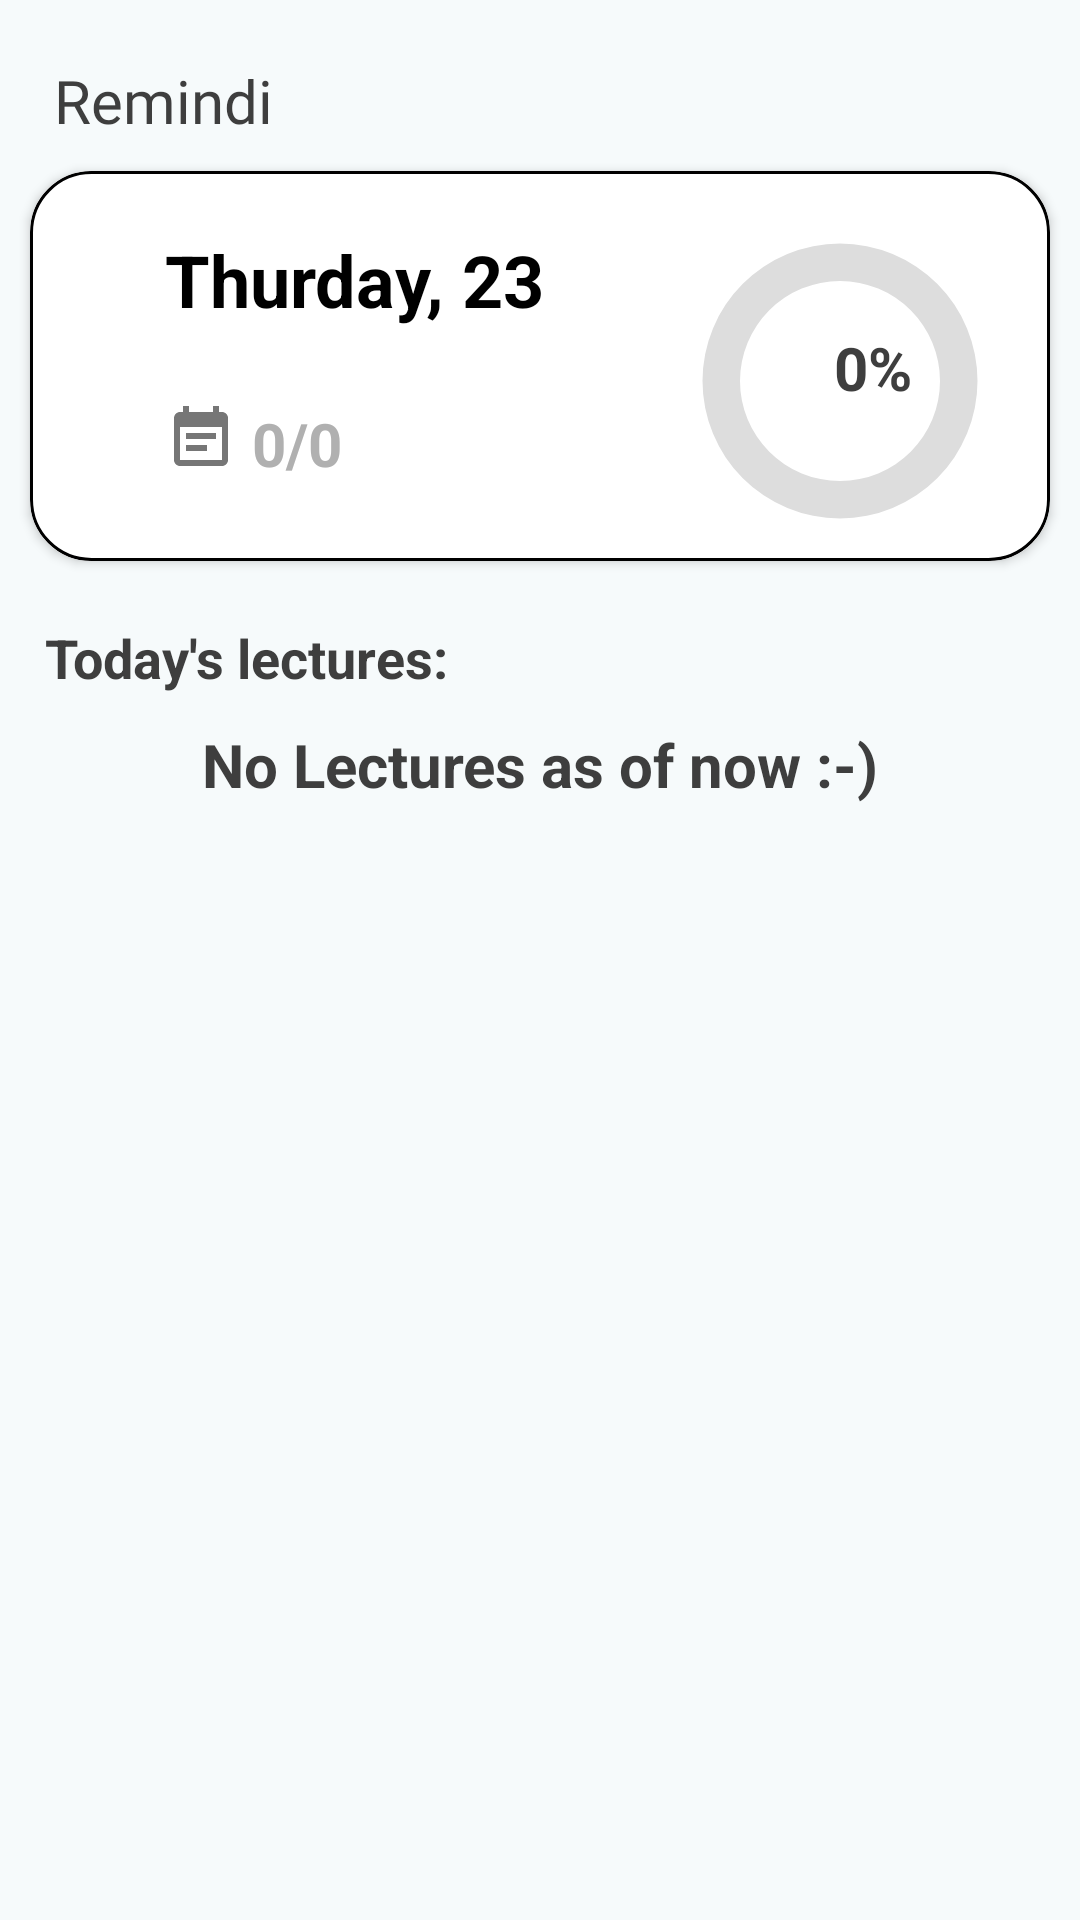

Icons on this 1080*1920 Android screen, each with the point to tap as point (x, y):
event note: point (201, 436)
